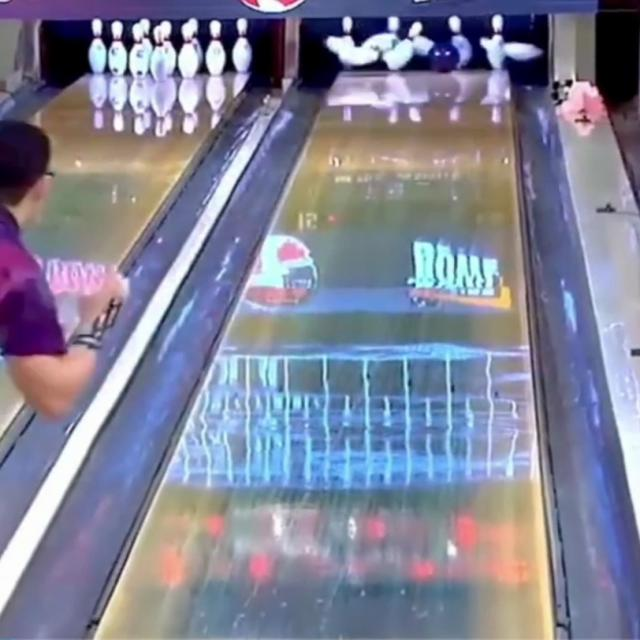alley: (89, 73, 555, 639)
balls: (430, 44, 456, 72)
bottle: (325, 17, 439, 70), (479, 15, 541, 69), (448, 16, 471, 68)
